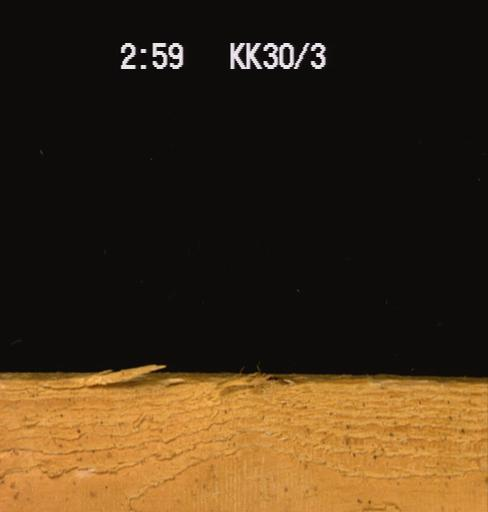split: (35, 374, 157, 391)
